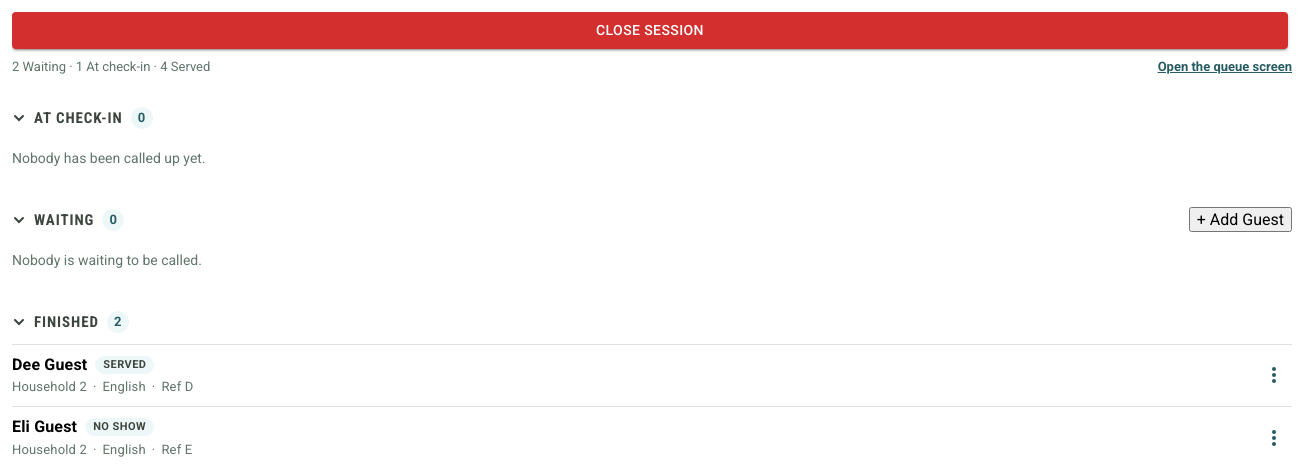
Scenario: QueueView › lists finished guests with their status, and folds the list away on request
Click the button "Finished 2" at (70, 322), box 12,300 -> 129,344
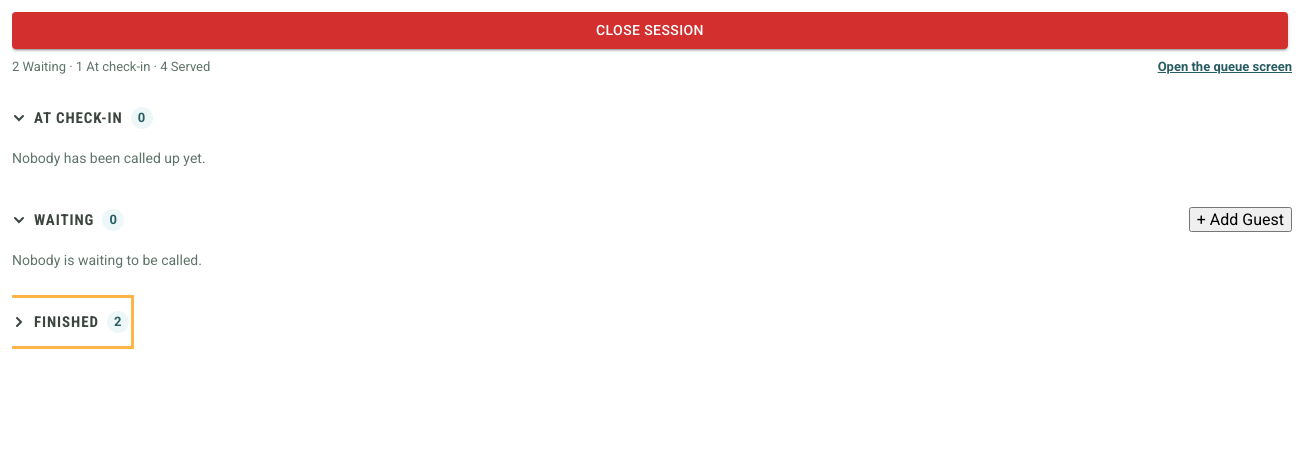
Now the text "Dee" is gone
Now the text "Eli" is gone
